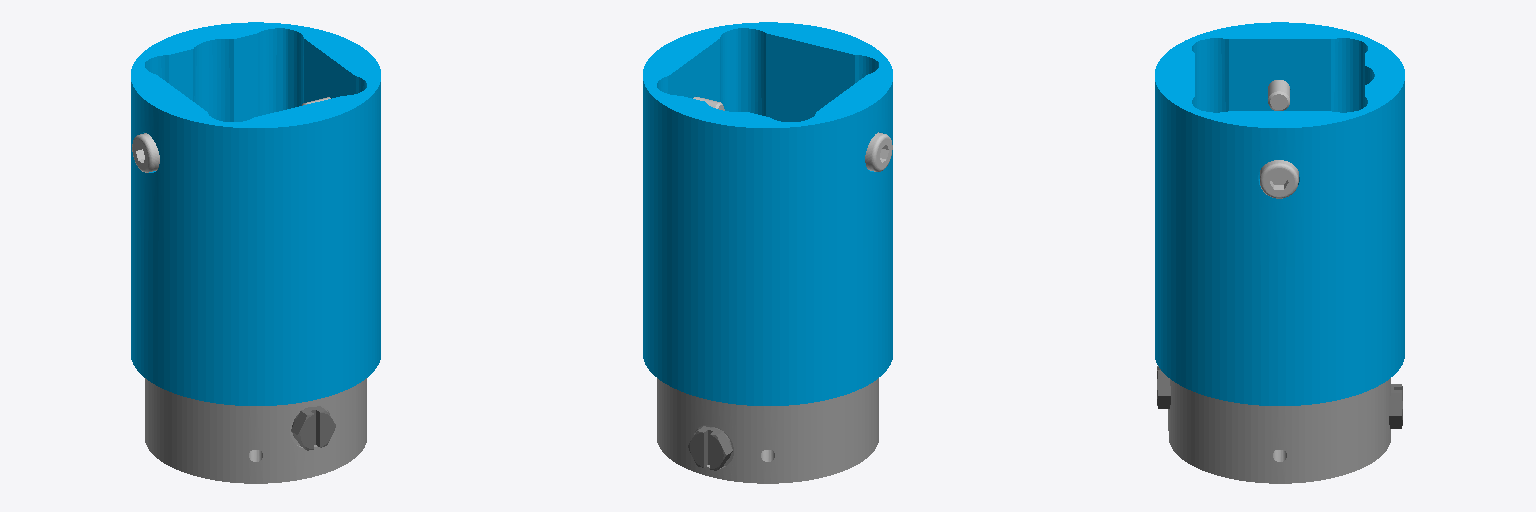
Rendered from Assembly_SMC_EE_ABB_IRB_120_Part_Bottom.obj.
The picture shows the model from 3 angles: view 1: azimuth 30°, elevation 25°; view 2: azimuth 150°, elevation 25°; view 3: azimuth 270°, elevation 25°; orthographic projection.
Parts seen in each view (by area): view 1: Solid1, Solid2:1, Solid2:2, Solid2; view 2: Solid1, Solid2:1, Solid2:3, Solid2; view 3: Solid1, Solid2:1, Solid2:9, Solid2, Solid2:3.
Part boxes in pixels (left/top/right/bottom): Solid1: left=131, top=22, right=380, bottom=405; Solid2:1: left=145, top=378, right=366, bottom=483; Solid2:2: left=291, top=406, right=335, bottom=450; Solid2: left=132, top=133, right=159, bottom=172; Solid1: left=643, top=22, right=892, bottom=405; Solid2:1: left=657, top=378, right=878, bottom=483; Solid2:3: left=688, top=426, right=732, bottom=470; Solid2: left=865, top=132, right=892, bottom=171; Solid1: left=1155, top=22, right=1404, bottom=405; Solid2:1: left=1168, top=378, right=1390, bottom=483; Solid2:9: left=1260, top=160, right=1298, bottom=198; Solid2: left=1268, top=80, right=1289, bottom=110; Solid2:3: left=1389, top=384, right=1402, bottom=428.
Size of the model in its own units: 48 by 71.5 by 44.99.